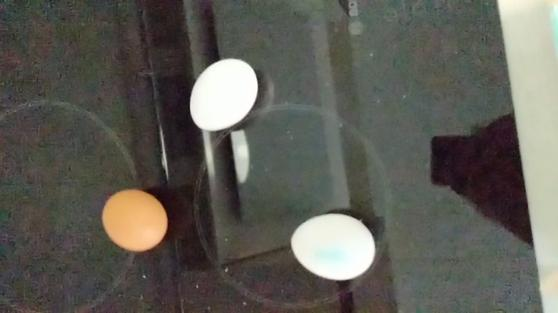egg: (284, 211, 377, 281), (189, 56, 259, 131), (99, 183, 170, 251)
